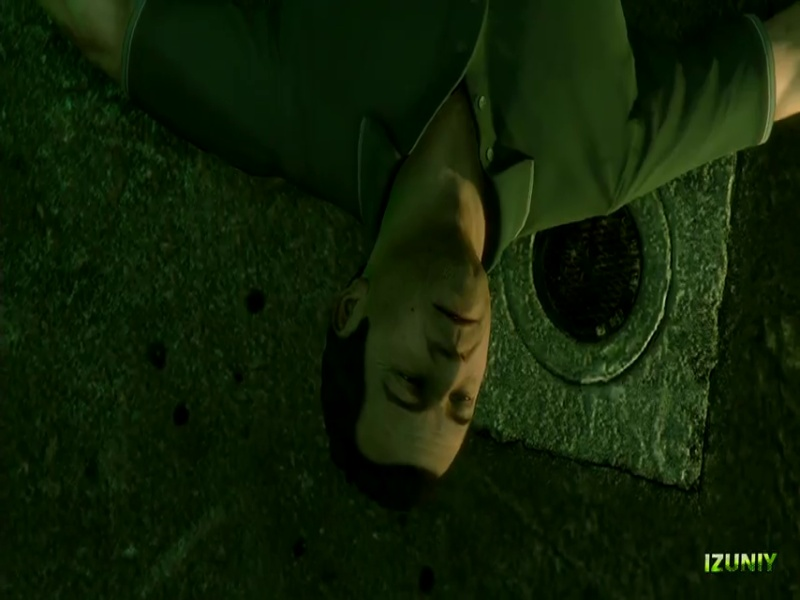human: (4, 0, 796, 546)
